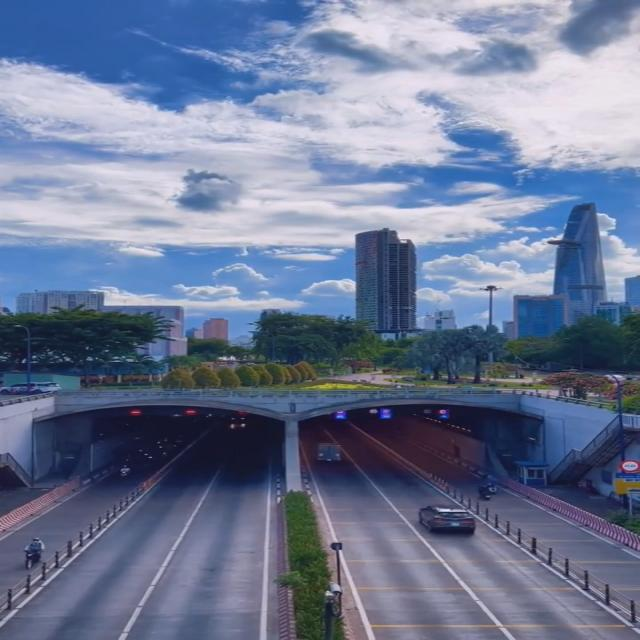car: (419, 505, 476, 538)
motorbike: (21, 536, 46, 570), (478, 480, 495, 502), (115, 462, 133, 481)
